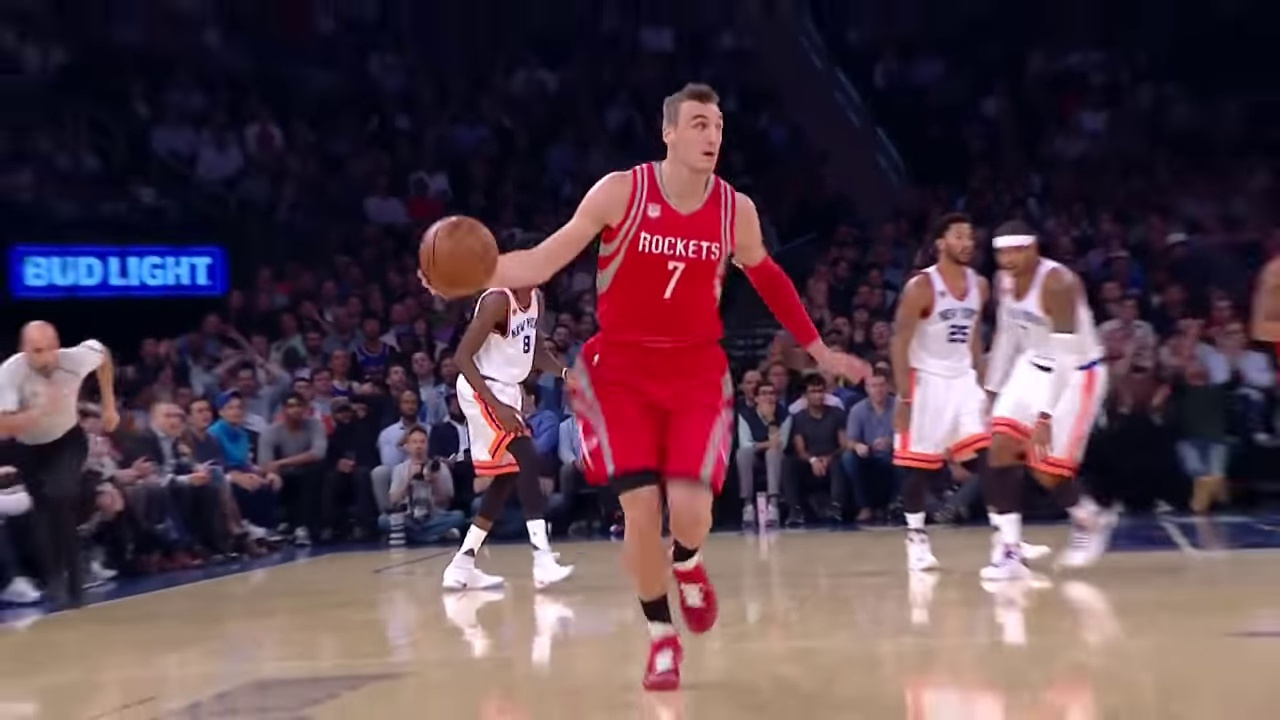bola: (415, 214, 498, 300)
person: (415, 82, 867, 608)
